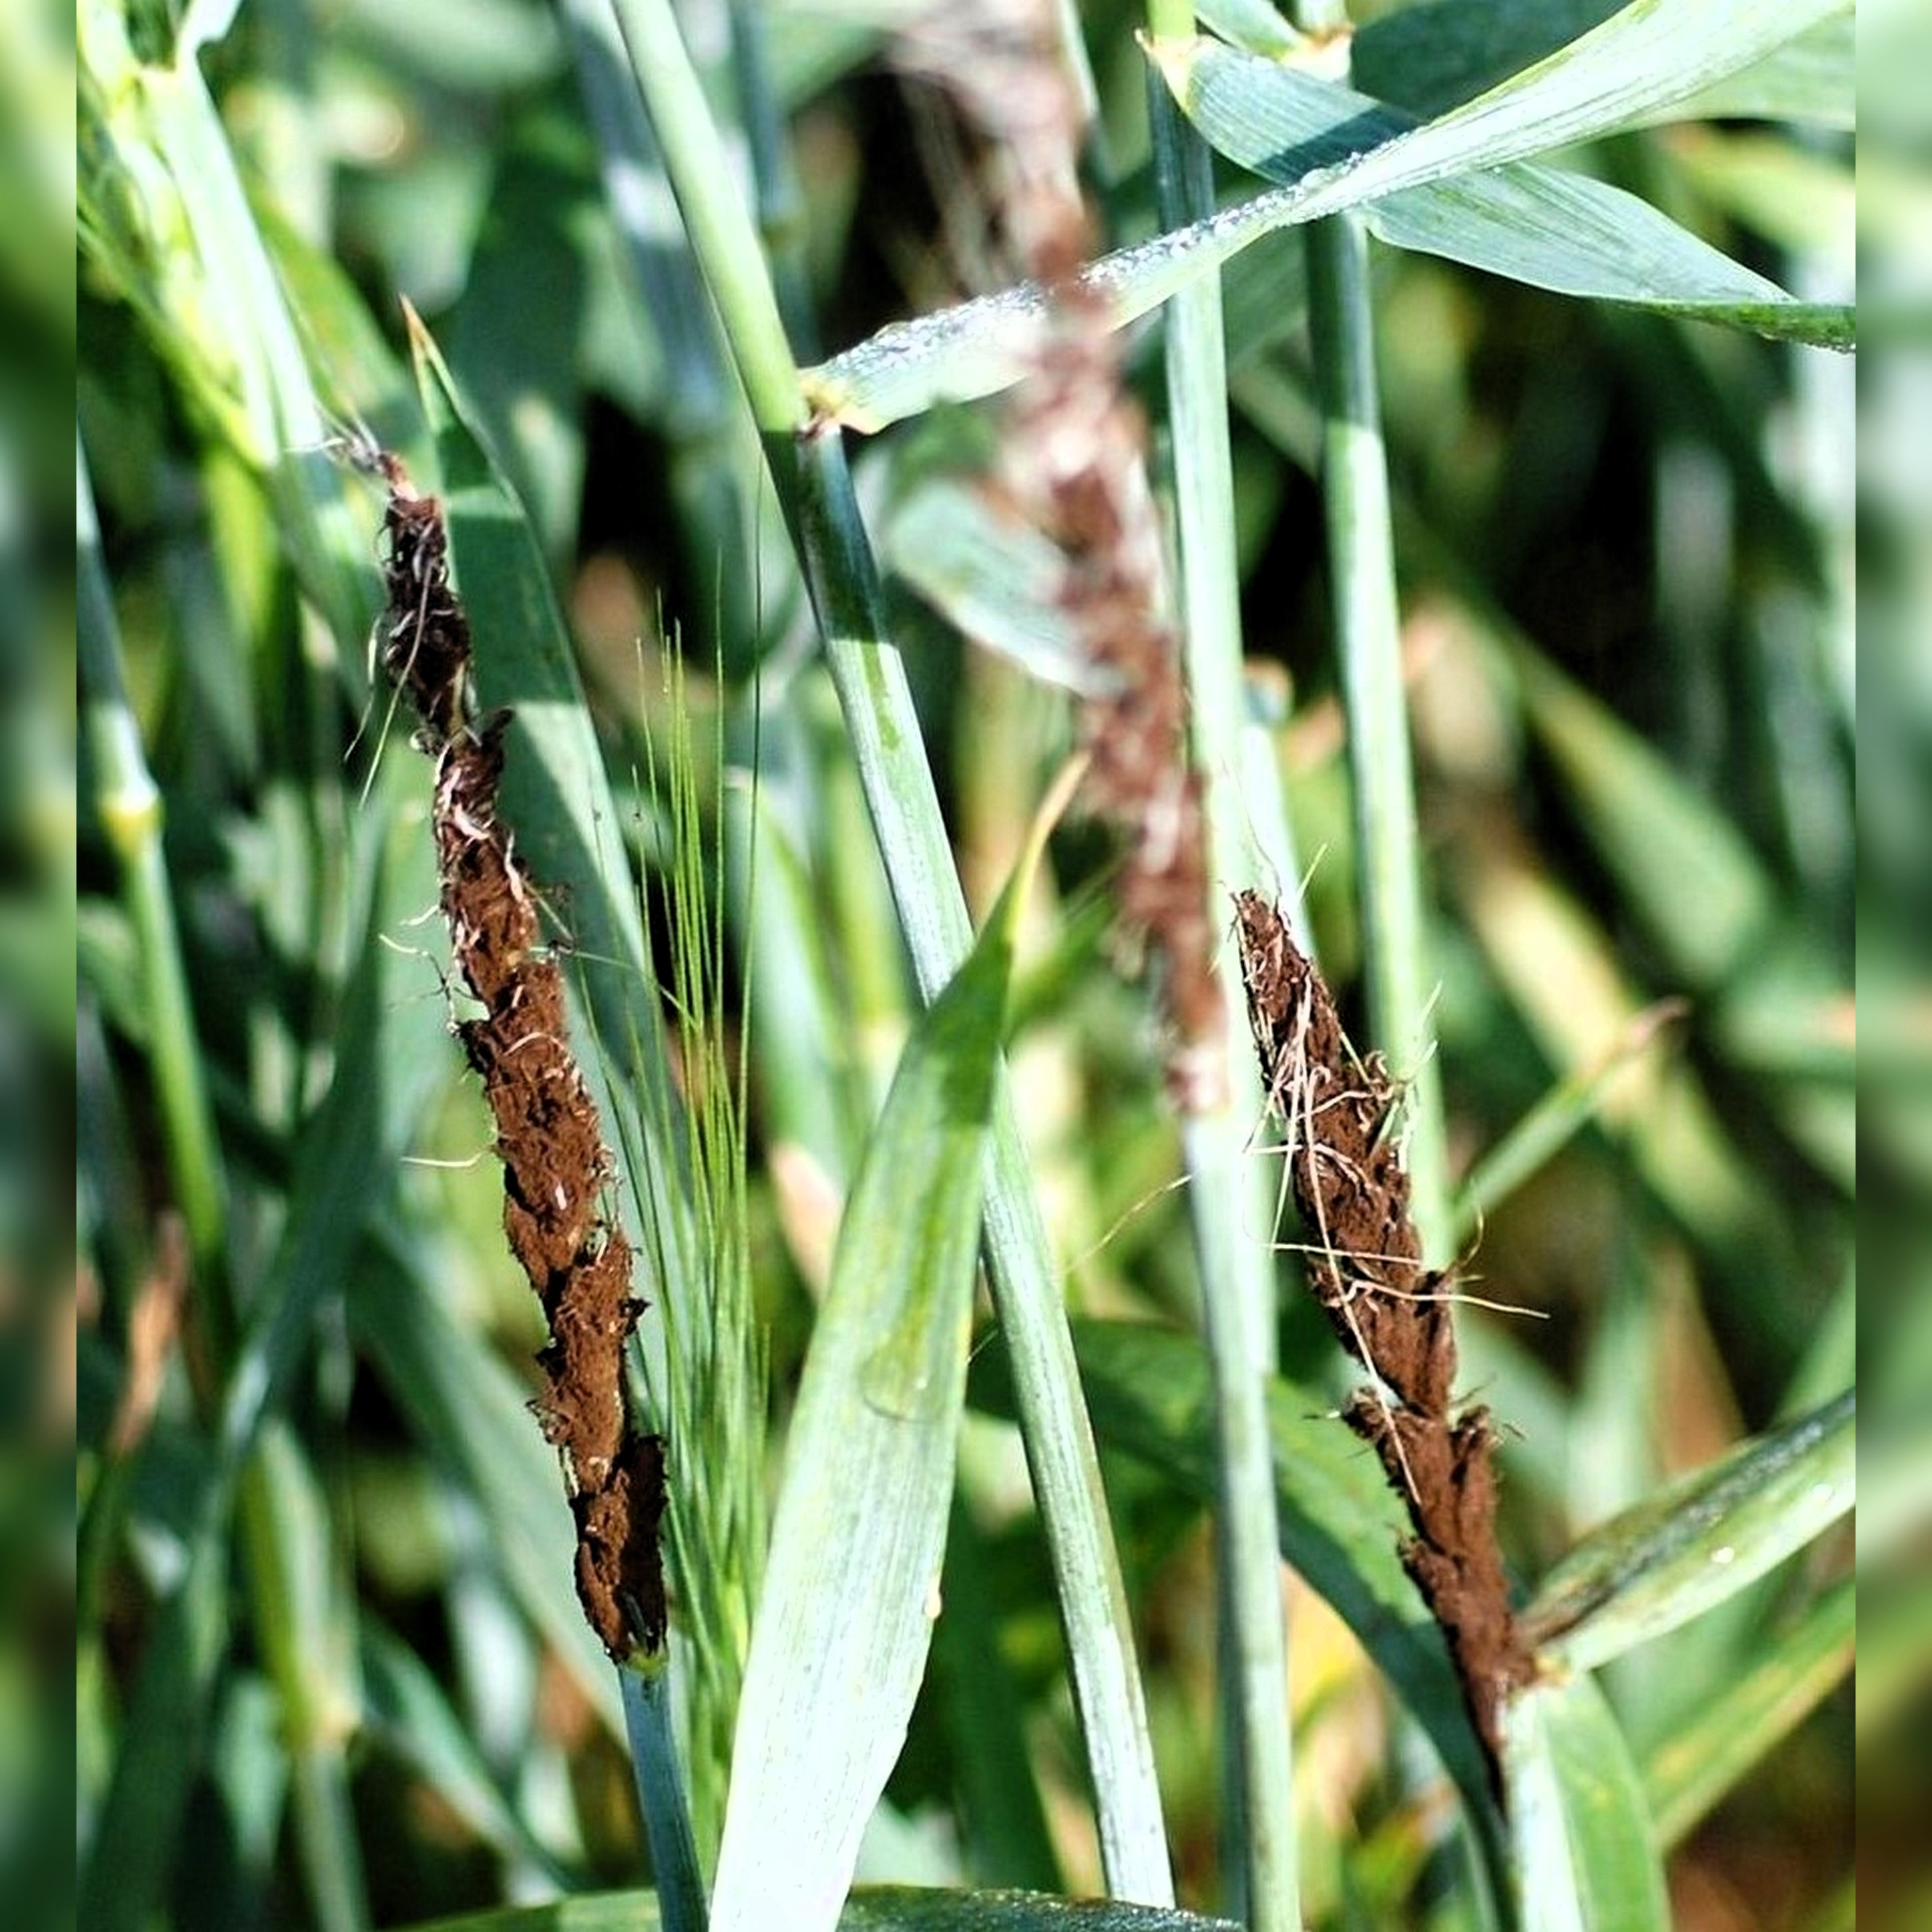Wheat Loose Smut: (1207, 902, 1575, 1495), (315, 462, 619, 1090)
